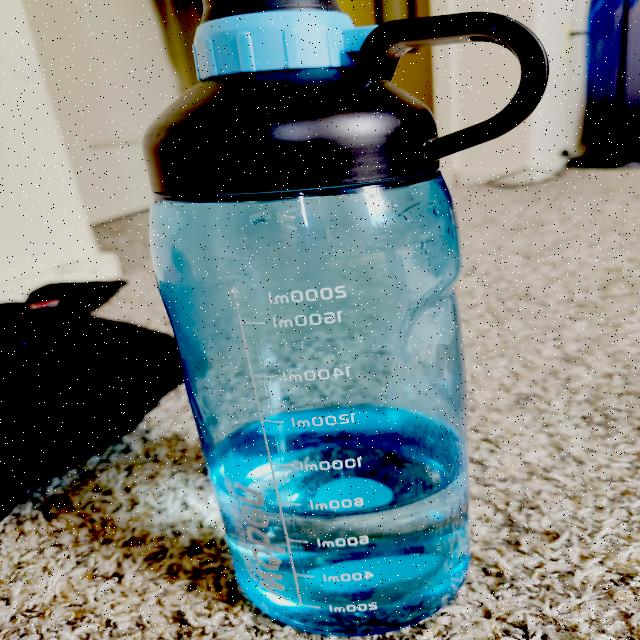bottle: (160, 0, 546, 630)
